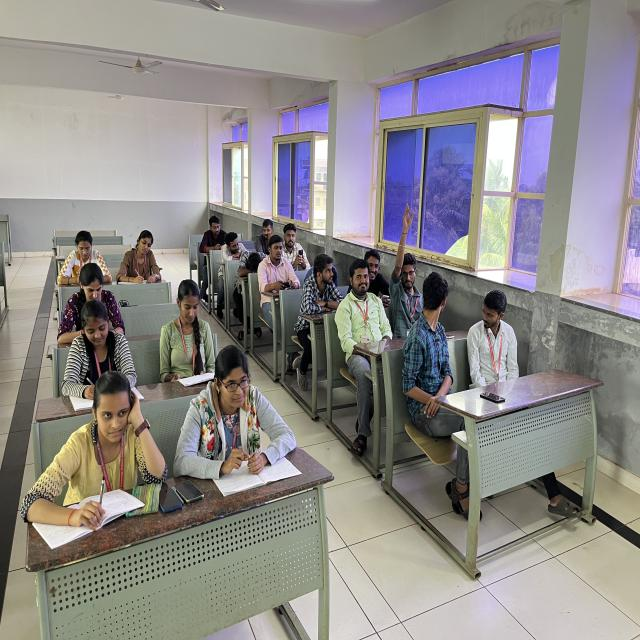Reading: (157, 277, 220, 386), (388, 197, 426, 316)
Sleeping: (234, 248, 268, 282), (220, 230, 248, 262)
Using Phone: (257, 233, 299, 304), (360, 247, 393, 304), (280, 220, 312, 273), (198, 213, 228, 254)
Writing: (60, 297, 140, 396), (112, 225, 168, 287)
